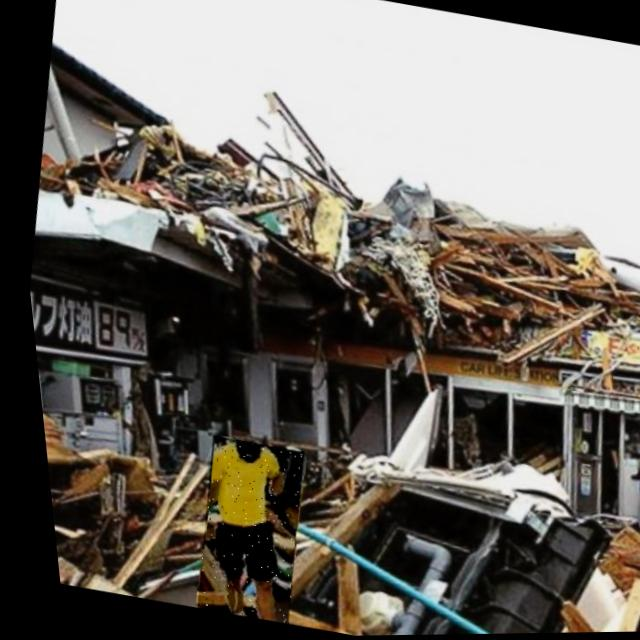Person in Rubble: (170, 435, 308, 625)
